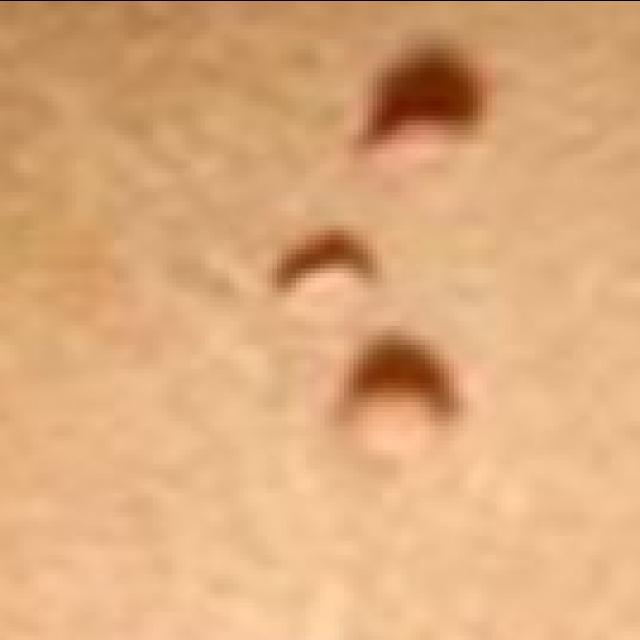wart: (348, 38, 472, 196), (329, 339, 454, 459), (268, 230, 368, 320)
